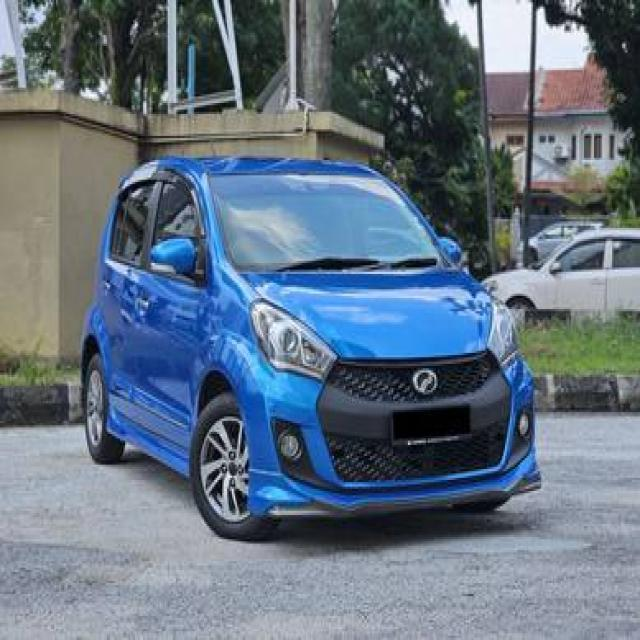PeroduaMyvi: (77, 152, 543, 542)
